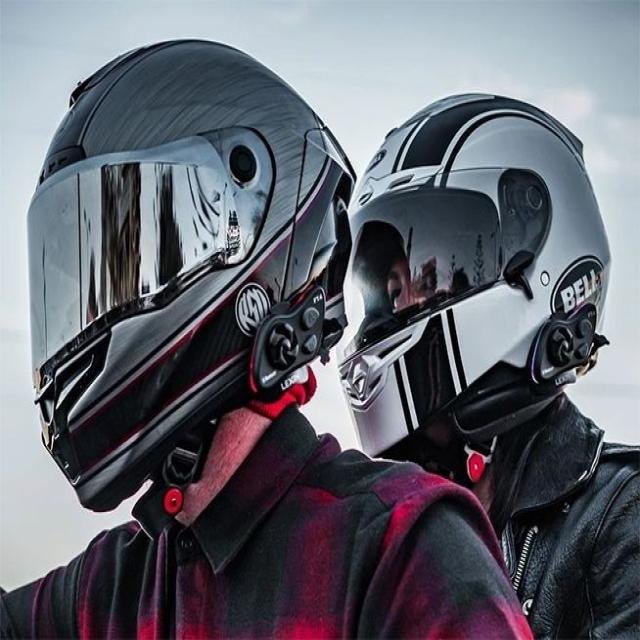helmet: (22, 27, 361, 518), (334, 85, 618, 470)
